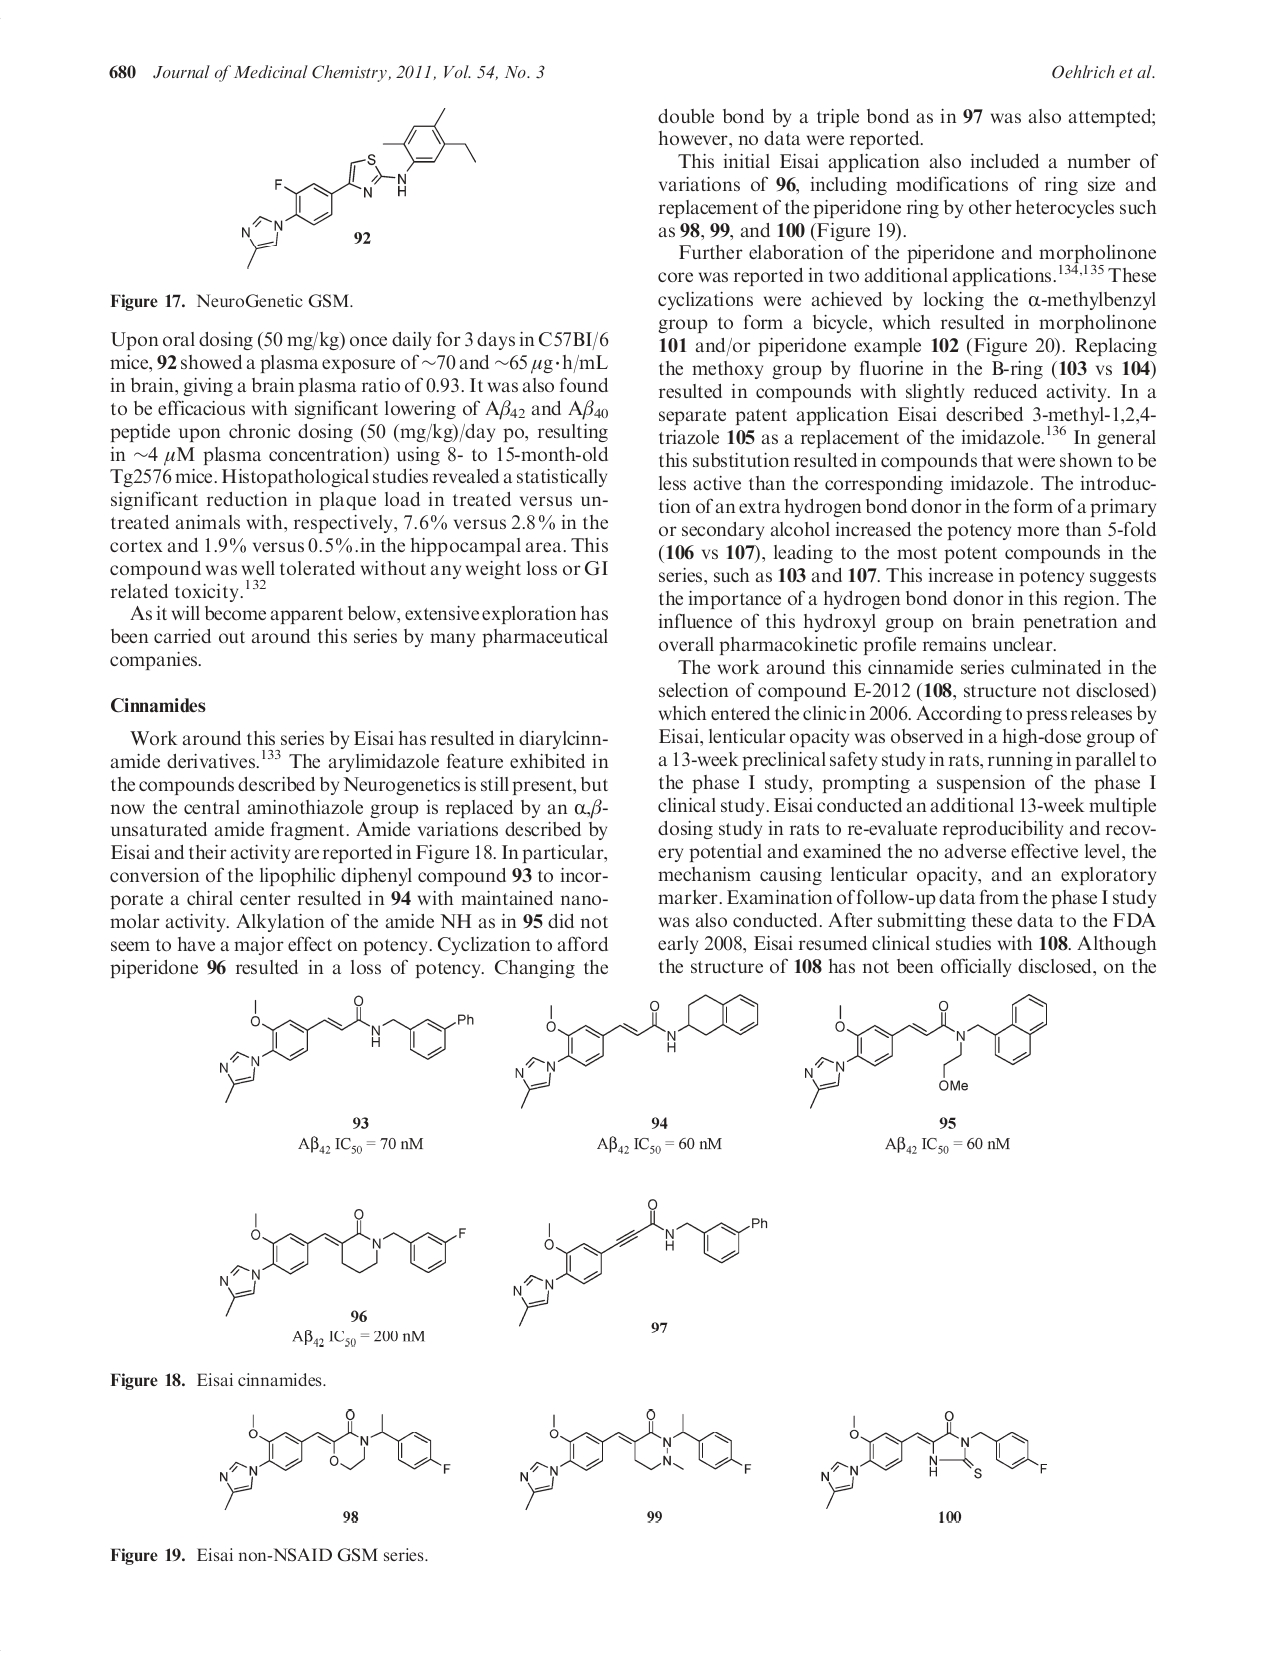exist_molecular: (239, 101, 479, 269), (507, 1196, 769, 1327), (511, 989, 763, 1109), (802, 992, 1051, 1113), (215, 1205, 473, 1318), (215, 992, 477, 1102), (217, 1406, 453, 1509), (516, 1407, 754, 1509), (815, 1408, 1052, 1508)
